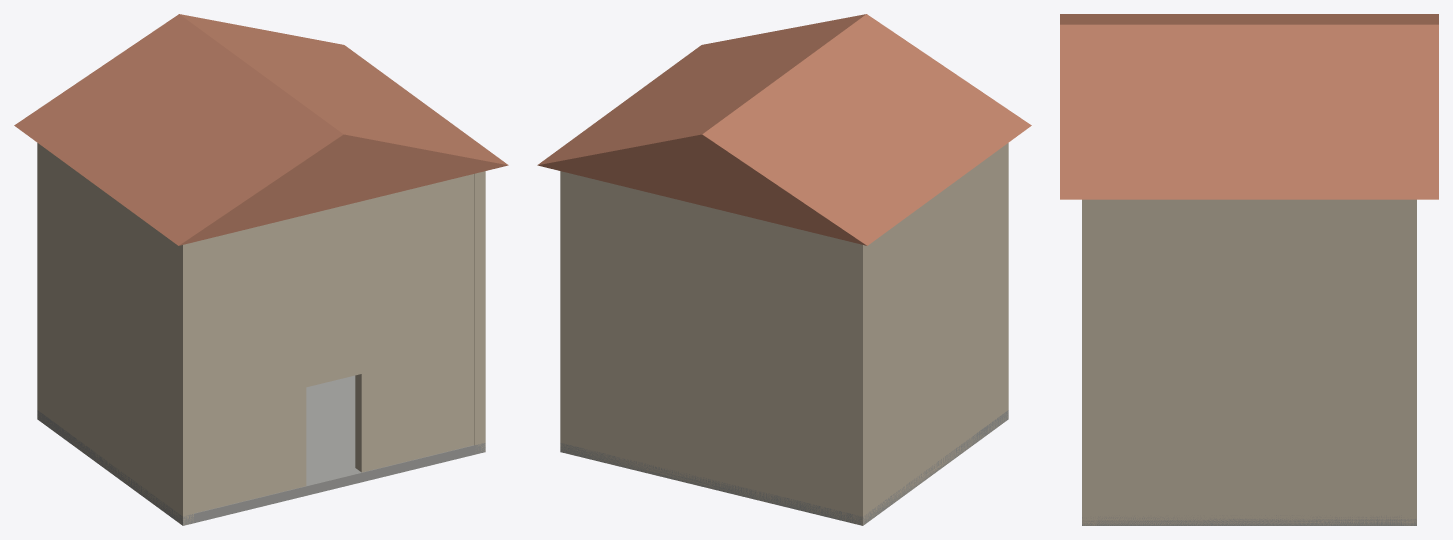
Rendered from house_two_storey.glb.
3 renders of one model, left to right at view 1: azimuth 30°, elevation 25°; view 2: azimuth 150°, elevation 25°; view 3: azimuth 270°, elevation 25°, orthographic. The views are drawn at different scales.
Visible parts, largest first — view 1: roof_removable, part_2, part_5, part_4, part_6, part_0, part_3, part_1; view 2: part_1, roof_removable, part_2, part_0, part_3; view 3: part_3, roof_removable, part_1, part_5, part_0.
Part boxes in pixels (x1=…): roof_removable: x1=14, y1=14, x2=508, y2=245; part_2: x1=37, y1=143, x2=193, y2=525; part_5: x1=355, y1=174, x2=474, y2=472; part_4: x1=176, y1=215, x2=306, y2=513; part_6: x1=306, y1=201, x2=361, y2=387; part_0: x1=37, y1=375, x2=485, y2=525; part_3: x1=474, y1=171, x2=485, y2=454; part_1: x1=37, y1=143, x2=43, y2=419; part_1: x1=560, y1=171, x2=869, y2=525; roof_removable: x1=537, y1=14, x2=1031, y2=245; part_2: x1=852, y1=143, x2=1008, y2=524; part_0: x1=560, y1=410, x2=1008, y2=525; part_3: x1=560, y1=172, x2=571, y2=451; part_3: x1=1082, y1=199, x2=1416, y2=525; roof_removable: x1=1060, y1=14, x2=1438, y2=199; part_1: x1=1402, y1=199, x2=1416, y2=525; part_5: x1=1082, y1=199, x2=1097, y2=525; part_0: x1=1082, y1=515, x2=1416, y2=525.
Bounding box in the file's own units: 6.55 × 6.85 × 5.65.
